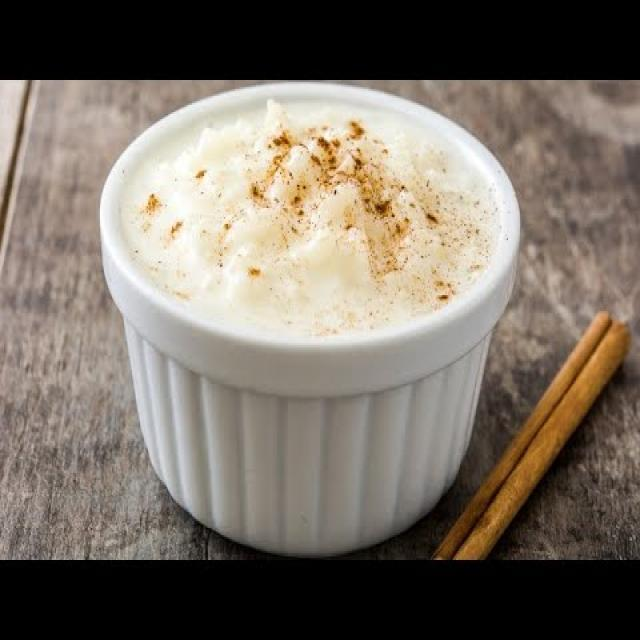roz blabn: (115, 92, 510, 496)
